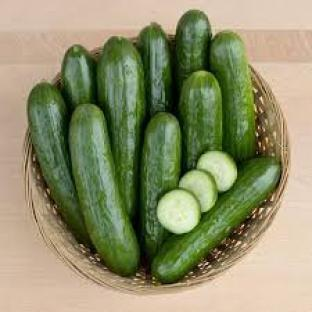Cucumber: (152, 157, 280, 282), (70, 104, 140, 275), (28, 82, 90, 244), (98, 37, 145, 217), (141, 113, 181, 259), (210, 31, 255, 160), (179, 71, 221, 171), (138, 23, 173, 116), (175, 10, 210, 91), (62, 45, 97, 109), (157, 189, 201, 234), (197, 152, 237, 192), (179, 170, 217, 212)
